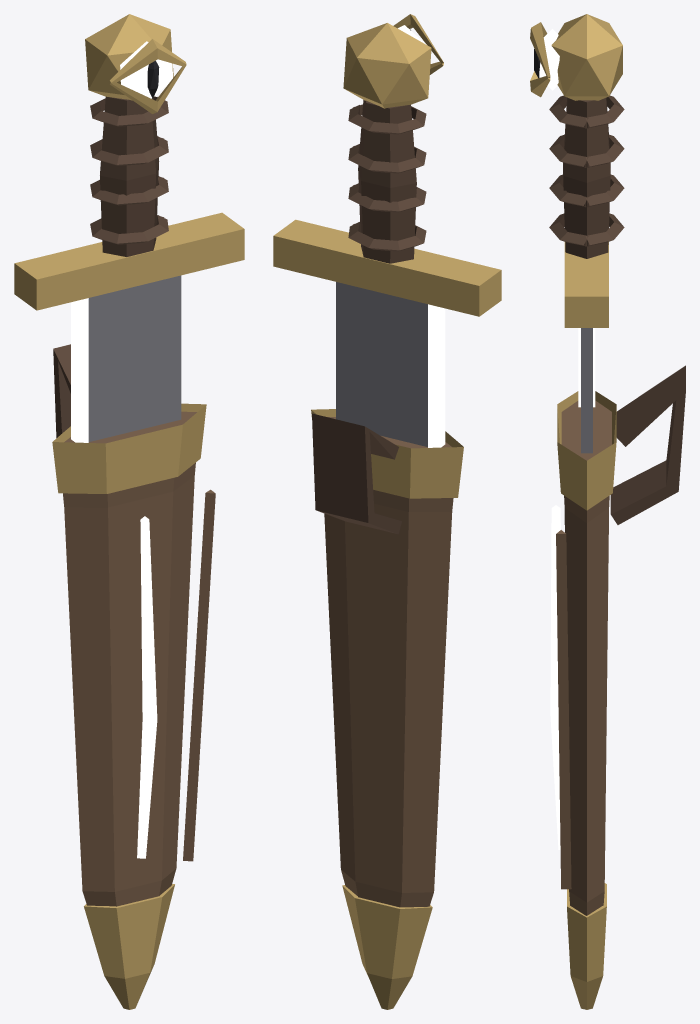
File: relic-knife.glb
3 views of the same model, side by side, from view 1: azimuth 30°, elevation 25°; view 2: azimuth 150°, elevation 25°; view 3: azimuth 270°, elevation 25° (orthographic).
Visible parts, largest first — view 1: knife_body; view 2: knife_body; view 3: knife_body.
Part boxes in pixels (left/top/right/bottom): knife_body: left=14, top=14, right=244, bottom=1009; knife_body: left=273, top=14, right=501, bottom=1009; knife_body: left=530, top=14, right=685, bottom=1009.
Size of the model in its own units: 0.14 by 0.6395 by 0.091.
